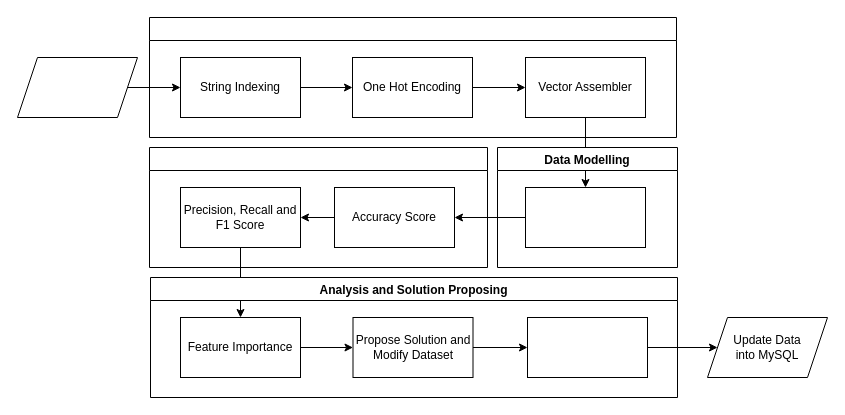
This 845x415 diagram has some shape labels left out. Here are the shapes that lost their labels. From the top down, the box of each, then its label:
(16, 56, 138, 118): Load Data from MySQL
(148, 16, 676, 138): Data Preprocessing
(148, 146, 488, 268): Model Evaluation
(524, 186, 646, 248): Logistic Regression
(526, 316, 648, 378): Prediction on Modified Dataset
